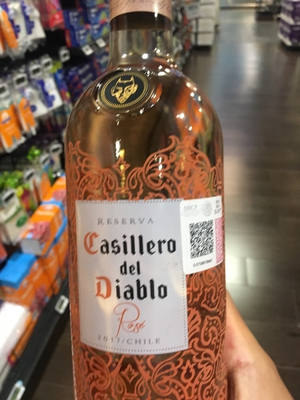casillero del diablo rose: (59, 15, 235, 374)
